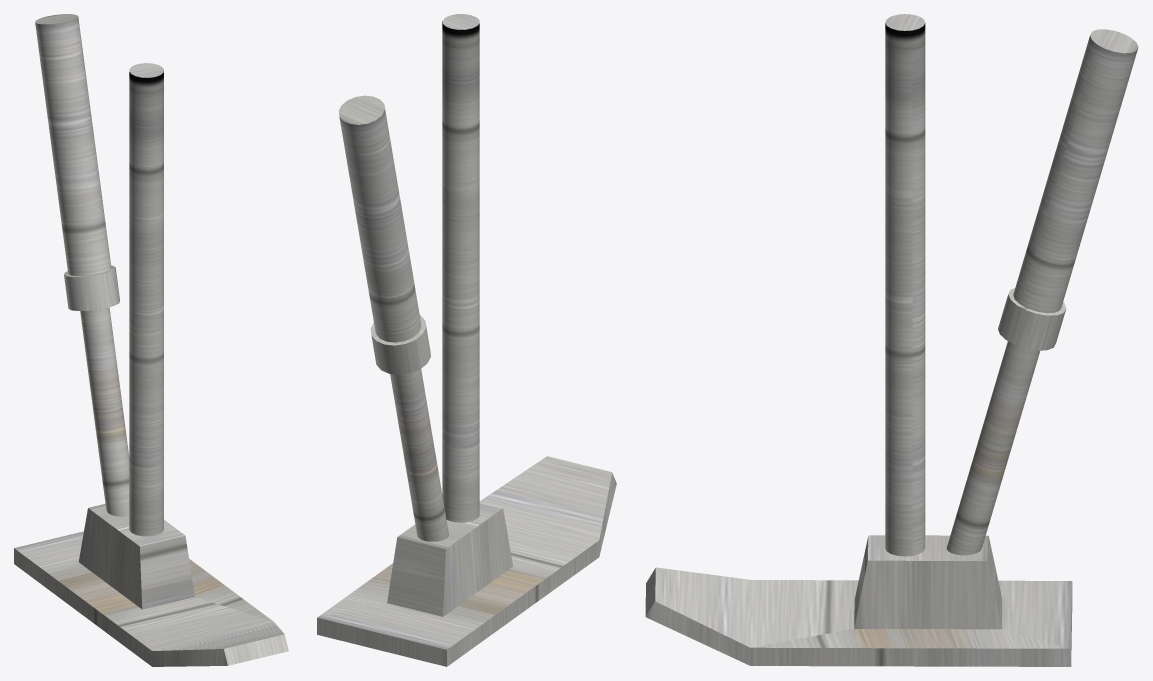
The model's file is pataFrente.obj.
3 views of the same model, side by side, from view 1: azimuth 30°, elevation 25°; view 2: azimuth 150°, elevation 25°; view 3: azimuth 270°, elevation 25° (orthographic). The views are drawn at different scales.
Visible parts, largest first — view 1: HULL_SIDE7; view 2: HULL_SIDE7; view 3: HULL_SIDE7.
Part boxes in pixels (<box>): HULL_SIDE7: <box>14,14,288,666</box>; HULL_SIDE7: <box>317,14,616,666</box>; HULL_SIDE7: <box>645,14,1138,666</box>.
Size of the model in its own units: 4.01 by 16.59 by 12.15.
Materials: 1 (1 with a texture image).
